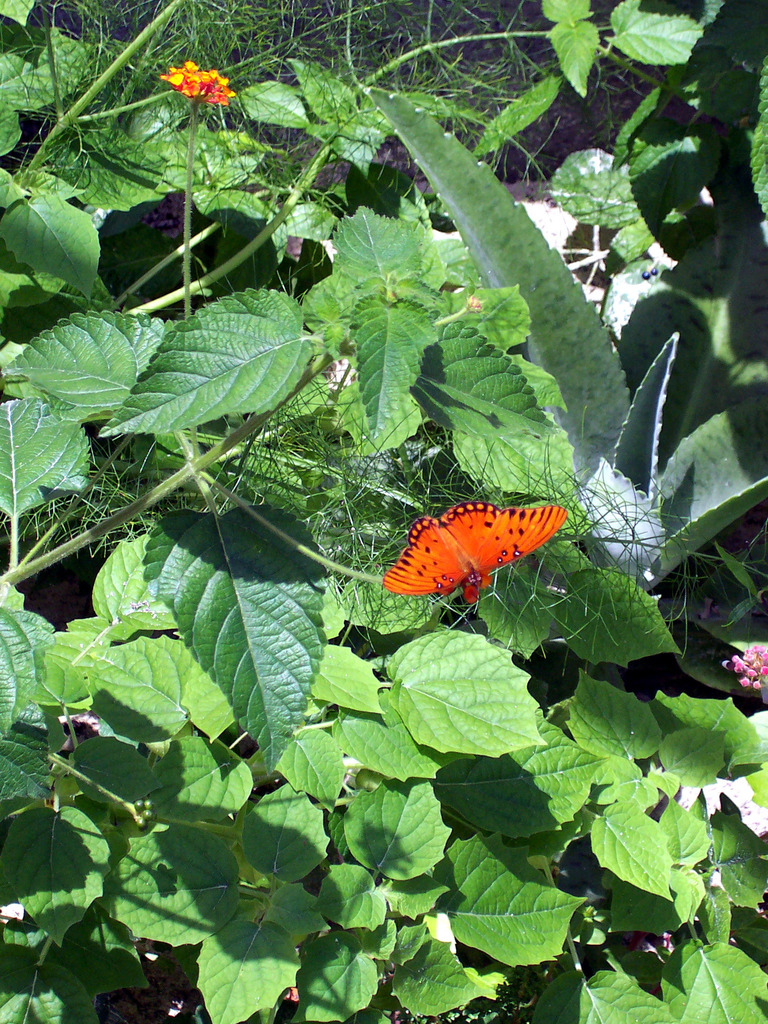Butterfly: (379, 487, 582, 613)
